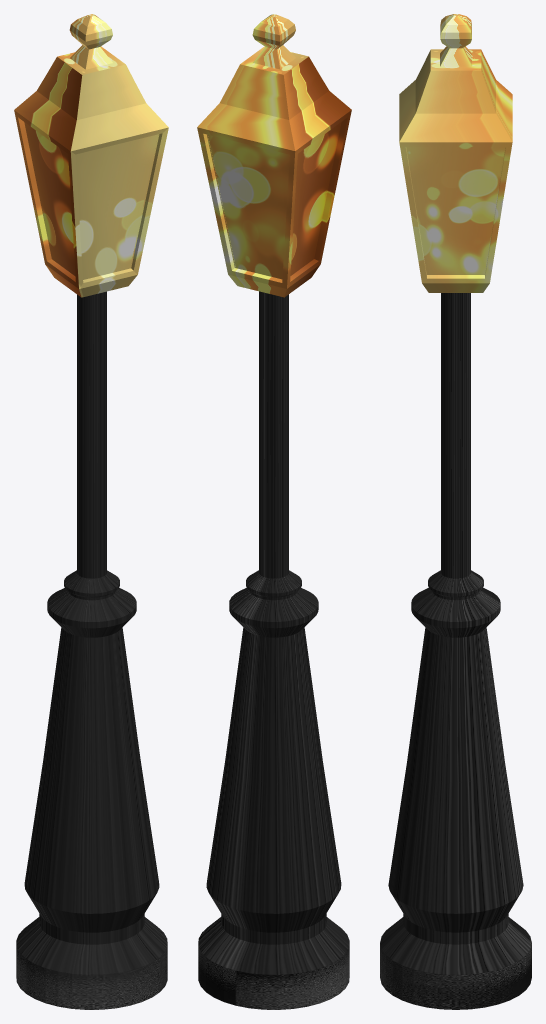
File: felinar1.obj
The picture shows the model from 3 angles, left to right: view 1: azimuth 30°, elevation 25°; view 2: azimuth 150°, elevation 25°; view 3: azimuth 270°, elevation 25°; orthographic projection.
Parts seen in each view (by area): view 1: Cylinder_Cylinder.002, Cube_Cube.008; view 2: Cylinder_Cylinder.002, Cube_Cube.008; view 3: Cylinder_Cylinder.002, Cube_Cube.008.
Boxes of the visible parts, x1,y1,x2,y2 form: Cylinder_Cylinder.002: (16,291,167,1009); Cube_Cube.008: (14,14,168,297); Cylinder_Cylinder.002: (198,291,349,1009); Cube_Cube.008: (197,14,351,297); Cylinder_Cylinder.002: (380,293,531,1009); Cube_Cube.008: (399,14,512,292).
Bounding box in the file's own units: 2 × 13.99 × 2.
Materials: 2 (2 with a texture image).
